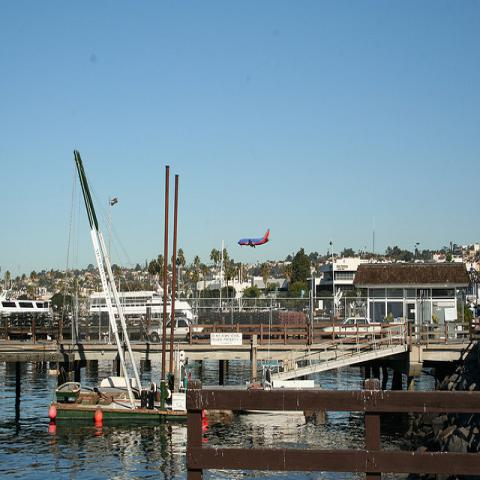car: (146, 313, 203, 344), (320, 316, 383, 344)
